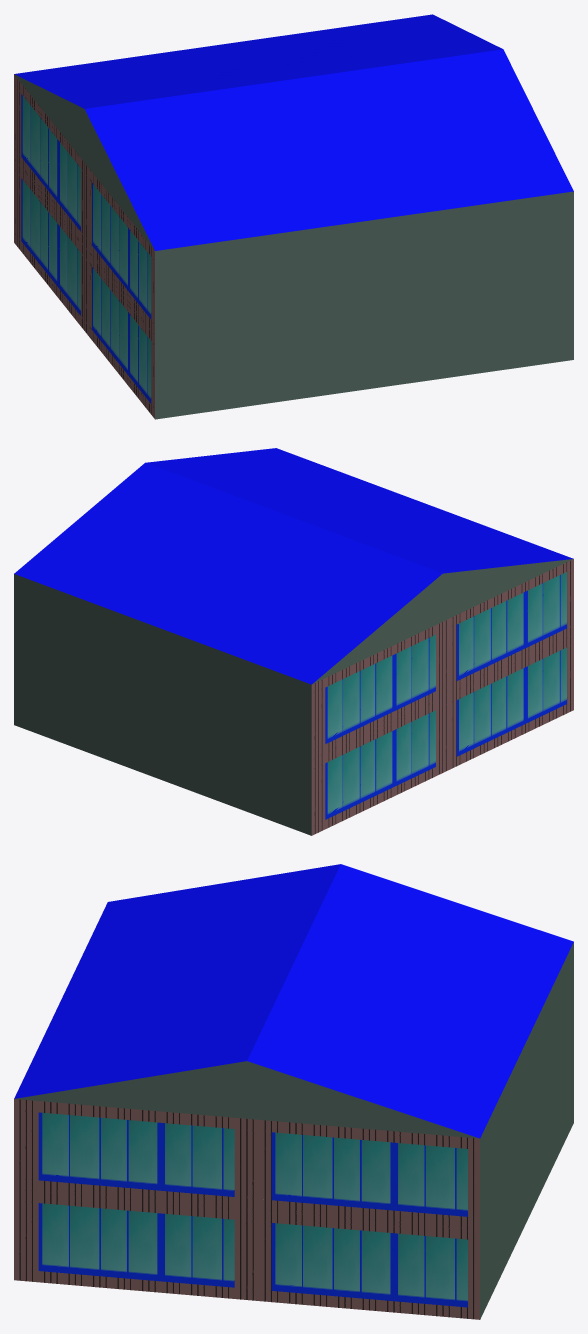
Rendered from wangqiushi.fbx.
3 views of the same model, one above another, from view 1: azimuth 30°, elevation 25°; view 2: azimuth 150°, elevation 25°; view 3: azimuth 270°, elevation 25° (orthographic). The views are drawn at different scales.
Visible parts, largest first — view 1: CityEngineMaterial_2_m, CityEngineMaterial_m, CityEngineMaterial_4_m, CityEngineMaterial_3_m; view 2: CityEngineMaterial_2_m, CityEngineMaterial_m, CityEngineMaterial_4_m, CityEngineMaterial_3_m; view 3: CityEngineMaterial_2_m, CityEngineMaterial_4_m, CityEngineMaterial_3_m, CityEngineMaterial_m.
Part boxes in pixels (box(x1,y1,x2,y2)): CityEngineMaterial_2_m: box(14, 14, 573, 250); CityEngineMaterial_m: box(14, 74, 573, 419); CityEngineMaterial_4_m: box(21, 94, 151, 403); CityEngineMaterial_3_m: box(14, 74, 154, 418); CityEngineMaterial_2_m: box(14, 448, 573, 684); CityEngineMaterial_m: box(14, 559, 572, 835); CityEngineMaterial_4_m: box(325, 572, 566, 819); CityEngineMaterial_3_m: box(311, 559, 573, 835); CityEngineMaterial_2_m: box(14, 864, 573, 1138); CityEngineMaterial_4_m: box(38, 1112, 467, 1307); CityEngineMaterial_3_m: box(14, 1099, 479, 1319); CityEngineMaterial_m: box(15, 942, 573, 1319).
Bounding box in the file's own units: 44.8 × 21.1 × 44.8.
